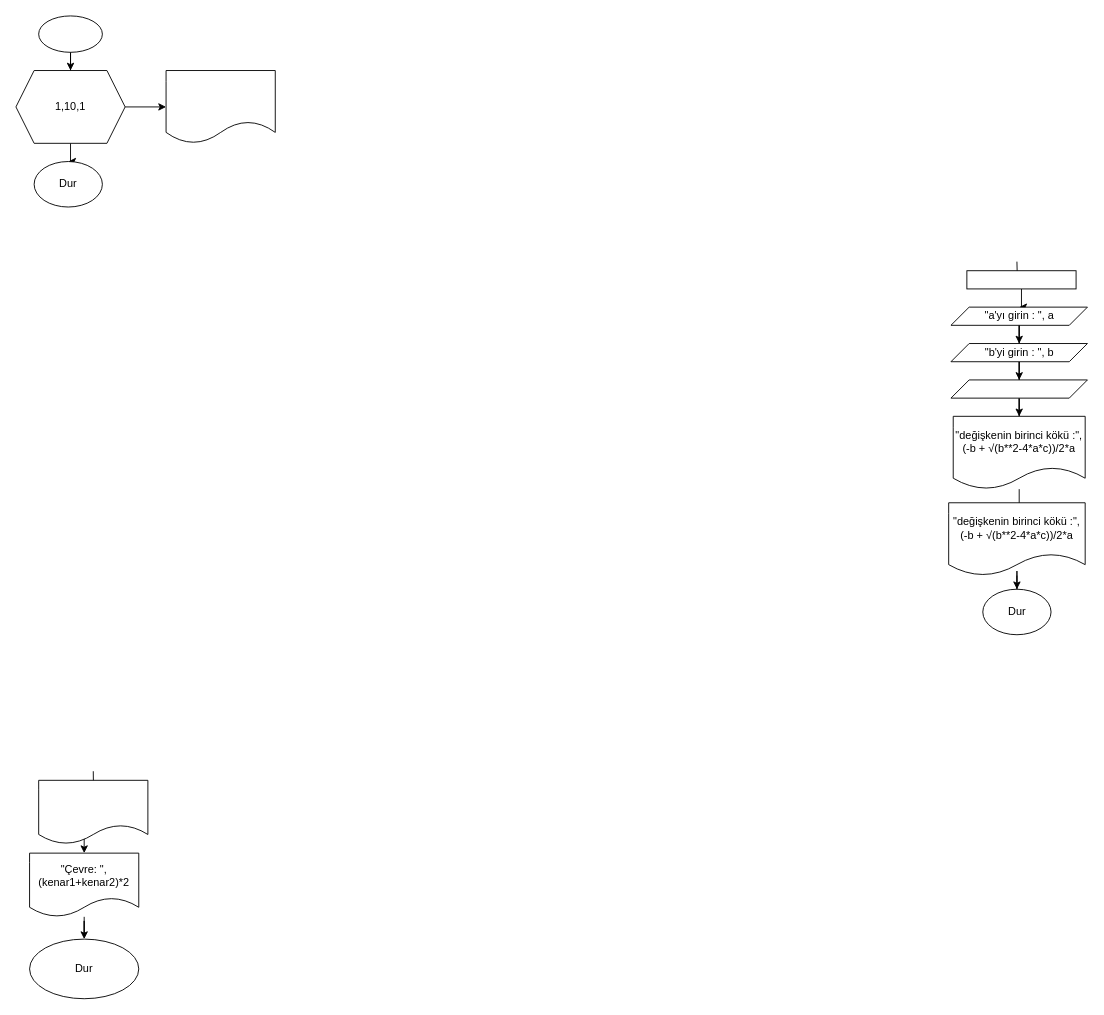
The diagram is 1104 pixels wide and 1015 high, and some of its shapes have lost their labels. Here are the shapes that lost their labels. From the top down, the centre of each, then its label:
pixel 70 33: Başla
pixel 220 106: "Hello World"
pixel 1021 279: int a, b,c
pixel 1018 388: "c'yi girin : ", c
pixel 93 811: "Alan: ", kenar1*kenar2
